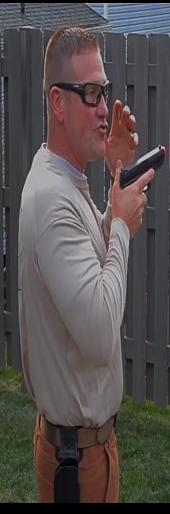pistol: (115, 143, 166, 232)
